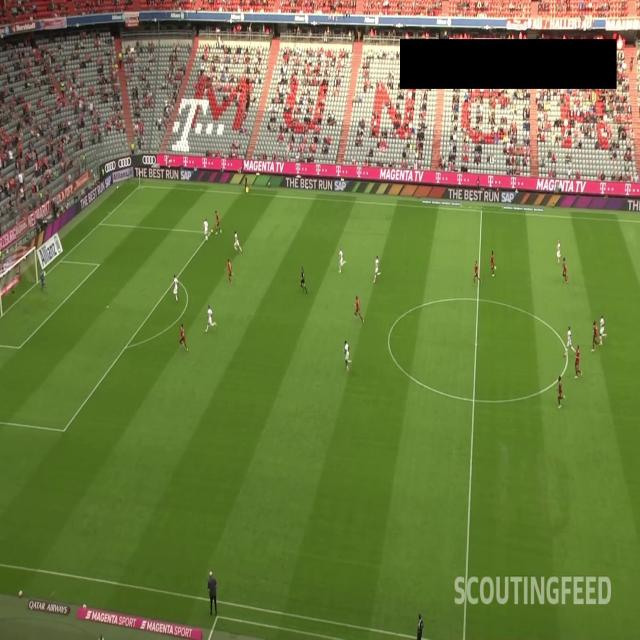ball: (210, 224, 214, 234)
player: (555, 375, 567, 412), (341, 337, 352, 374), (564, 326, 576, 359), (591, 319, 603, 352), (573, 344, 583, 382), (204, 303, 217, 332), (354, 295, 366, 326), (598, 312, 608, 347), (178, 321, 189, 352), (232, 228, 244, 254), (225, 256, 235, 286), (560, 255, 570, 285), (472, 258, 482, 287), (38, 264, 48, 292), (337, 246, 346, 275), (374, 253, 382, 284), (489, 248, 497, 279), (214, 209, 223, 235), (171, 272, 179, 300), (201, 218, 210, 242), (555, 238, 563, 264)
referee: (299, 264, 308, 296), (242, 173, 250, 194)
